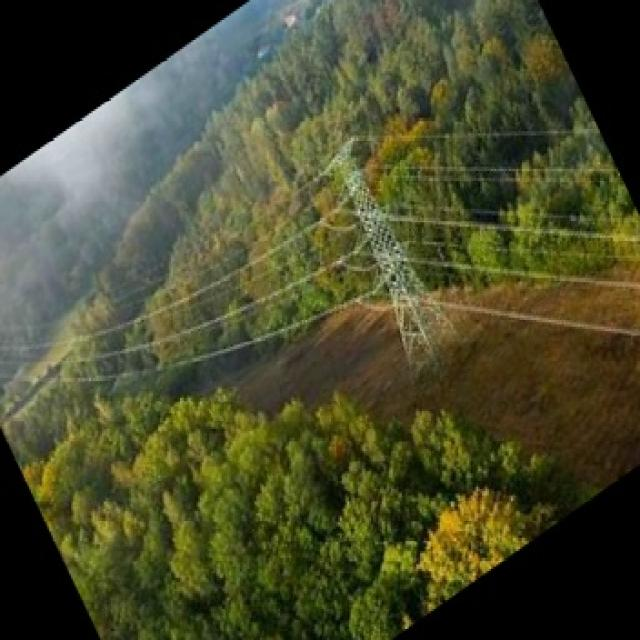utility poles: (319, 132, 465, 376)
